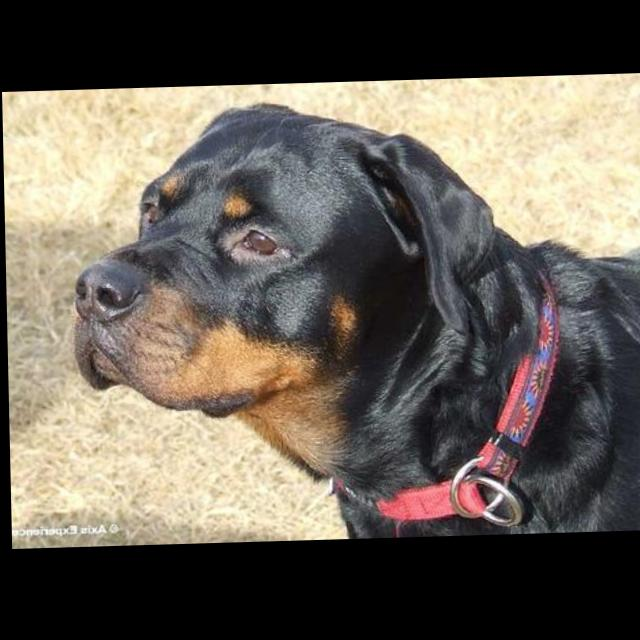rottweiler: (69, 94, 640, 548)
